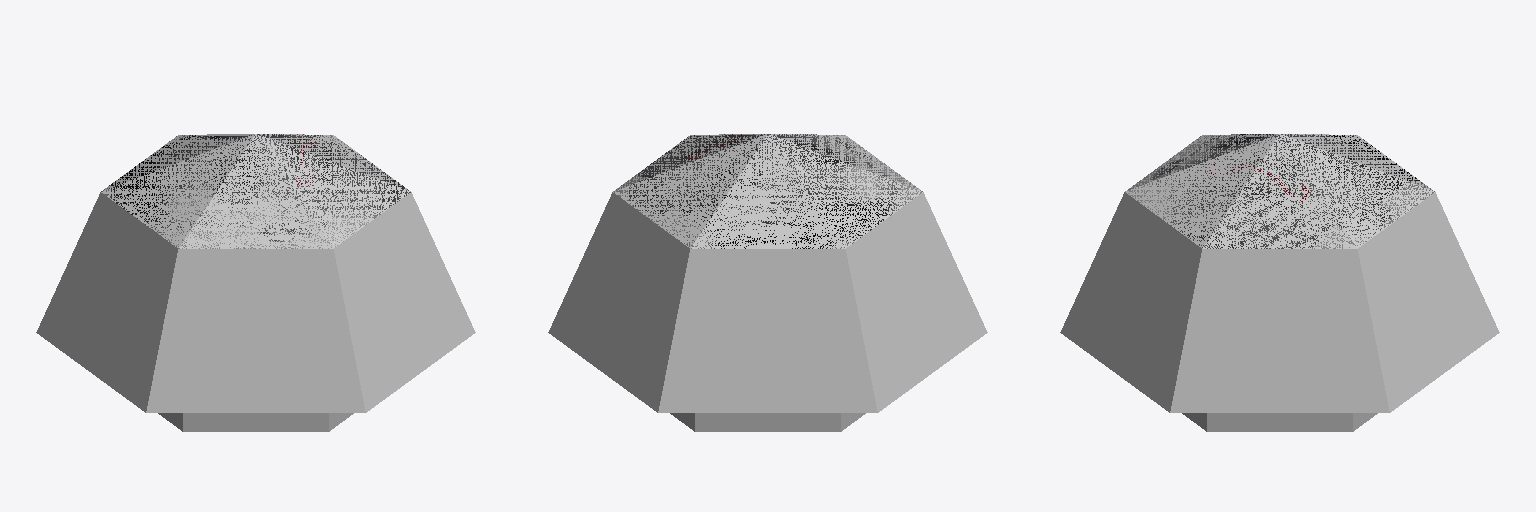
3 views of the same model, side by side, from view 1: azimuth 30°, elevation 25°; view 2: azimuth 150°, elevation 25°; view 3: azimuth 270°, elevation 25° (orthographic).
Visible parts, largest first — view 1: Sphere.001_Sphere.005; view 2: Sphere.001_Sphere.005; view 3: Sphere.001_Sphere.005.
Part boxes in pixels (left/top/right/bottom): Sphere.001_Sphere.005: left=36, top=134, right=475, bottom=431; Sphere.001_Sphere.005: left=548, top=134, right=987, bottom=431; Sphere.001_Sphere.005: left=1060, top=134, right=1499, bottom=431.
Bounding box in the file's own units: 1.73 × 1.23 × 2.
3 materials, 1 textured.